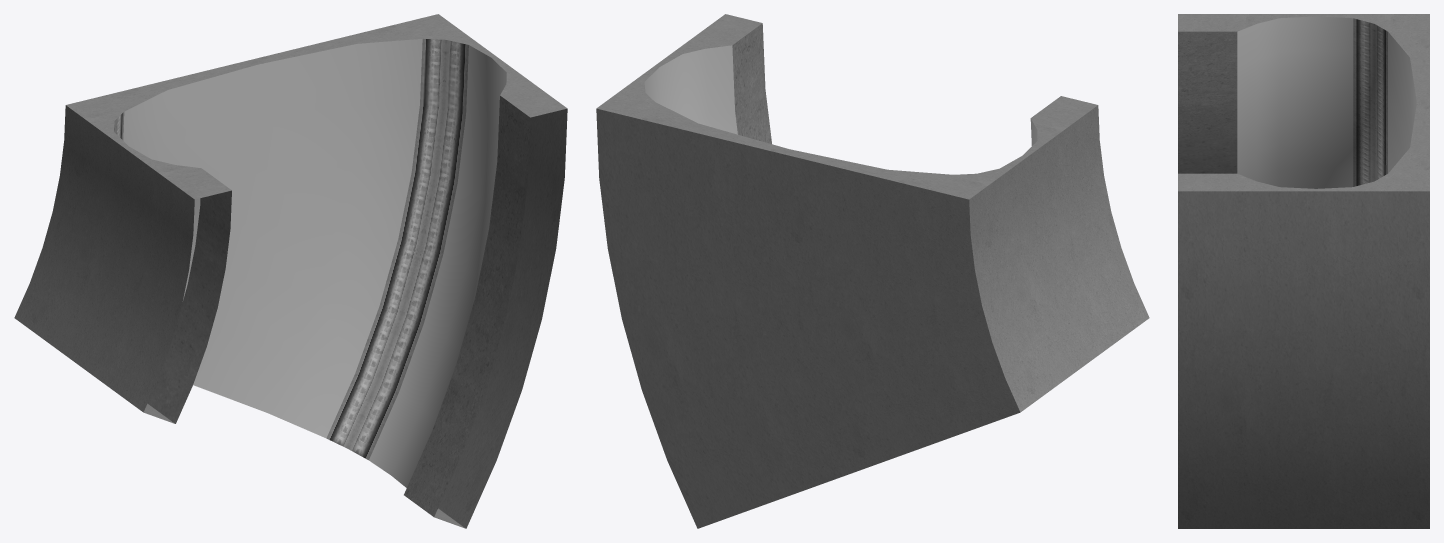
Rendered from TC_city_tunnel_30degree_turn_roadless.fbx.
The picture shows the model from 3 angles, left to right: view 1: azimuth 30°, elevation 25°; view 2: azimuth 150°, elevation 25°; view 3: azimuth 270°, elevation 25°; orthographic projection. The views are drawn at different scales.
Parts seen in each view (by area): view 1: TC_city_tunnel_30degree_turn_roadless; view 2: TC_city_tunnel_30degree_turn_roadless; view 3: TC_city_tunnel_30degree_turn_roadless.
Part boxes in pixels (<box>): TC_city_tunnel_30degree_turn_roadless: <box>14,14,567,528</box>; TC_city_tunnel_30degree_turn_roadless: <box>596,14,1149,528</box>; TC_city_tunnel_30degree_turn_roadless: <box>1178,14,1429,528</box>.
Size of the model in its own units: 11.38 by 10.14 by 6.
